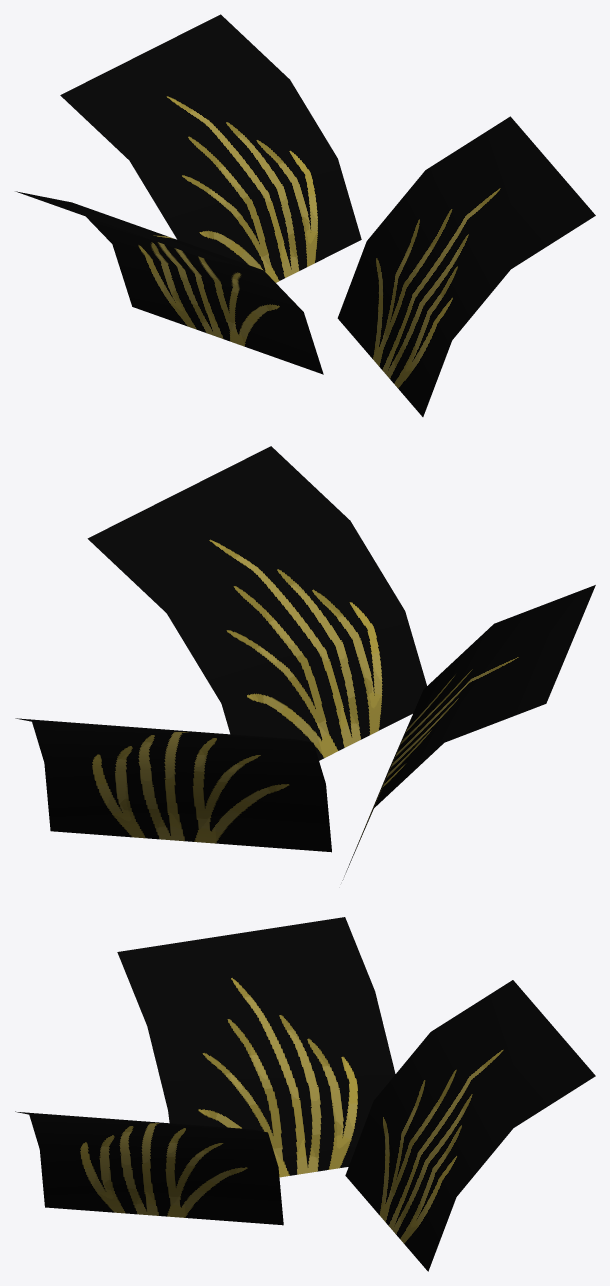
Rendered from Grass 09_preview_3DS_simplified.glb.
3 renders of one model, top to bottom at view 1: azimuth 30°, elevation 25°; view 2: azimuth 150°, elevation 25°; view 3: azimuth 270°, elevation 25°, orthographic. The views are drawn at different scales.
Parts seen in each view (by area): view 1: Marine Park Empire model; view 2: Marine Park Empire model; view 3: Marine Park Empire model.
Part boxes in pixels (box(x1,y1,x2,y2)): Marine Park Empire model: box(15, 14, 595, 416); Marine Park Empire model: box(15, 446, 595, 880); Marine Park Empire model: box(15, 917, 595, 1271).
Bounding box in the file's own units: 75.95 × 28.36 × 87.92.
Materials: 1 (1 with a texture image).
